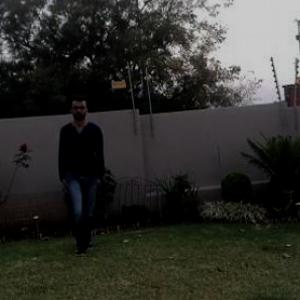follow: (57, 95, 110, 248)
